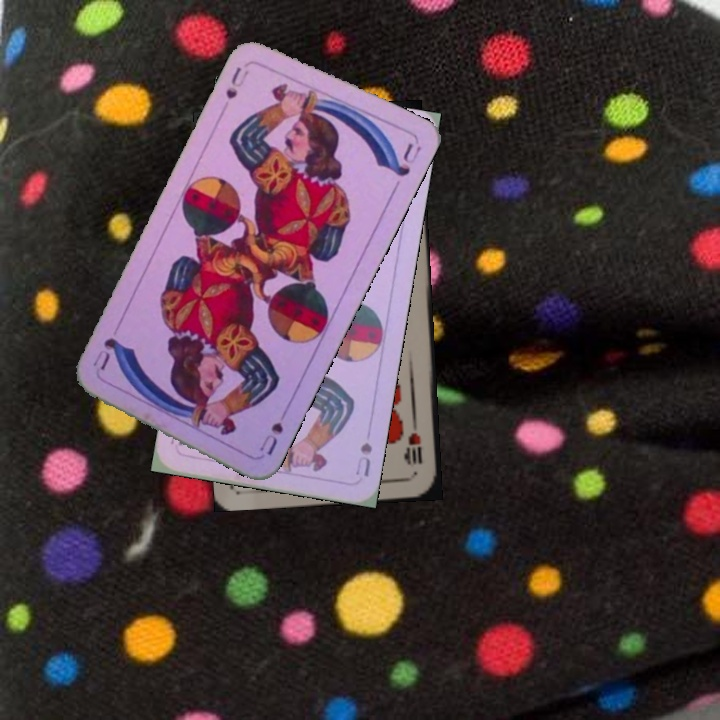H10: (404, 415, 425, 467)
SU: (255, 402, 292, 458), (351, 438, 375, 479), (221, 62, 244, 102)
